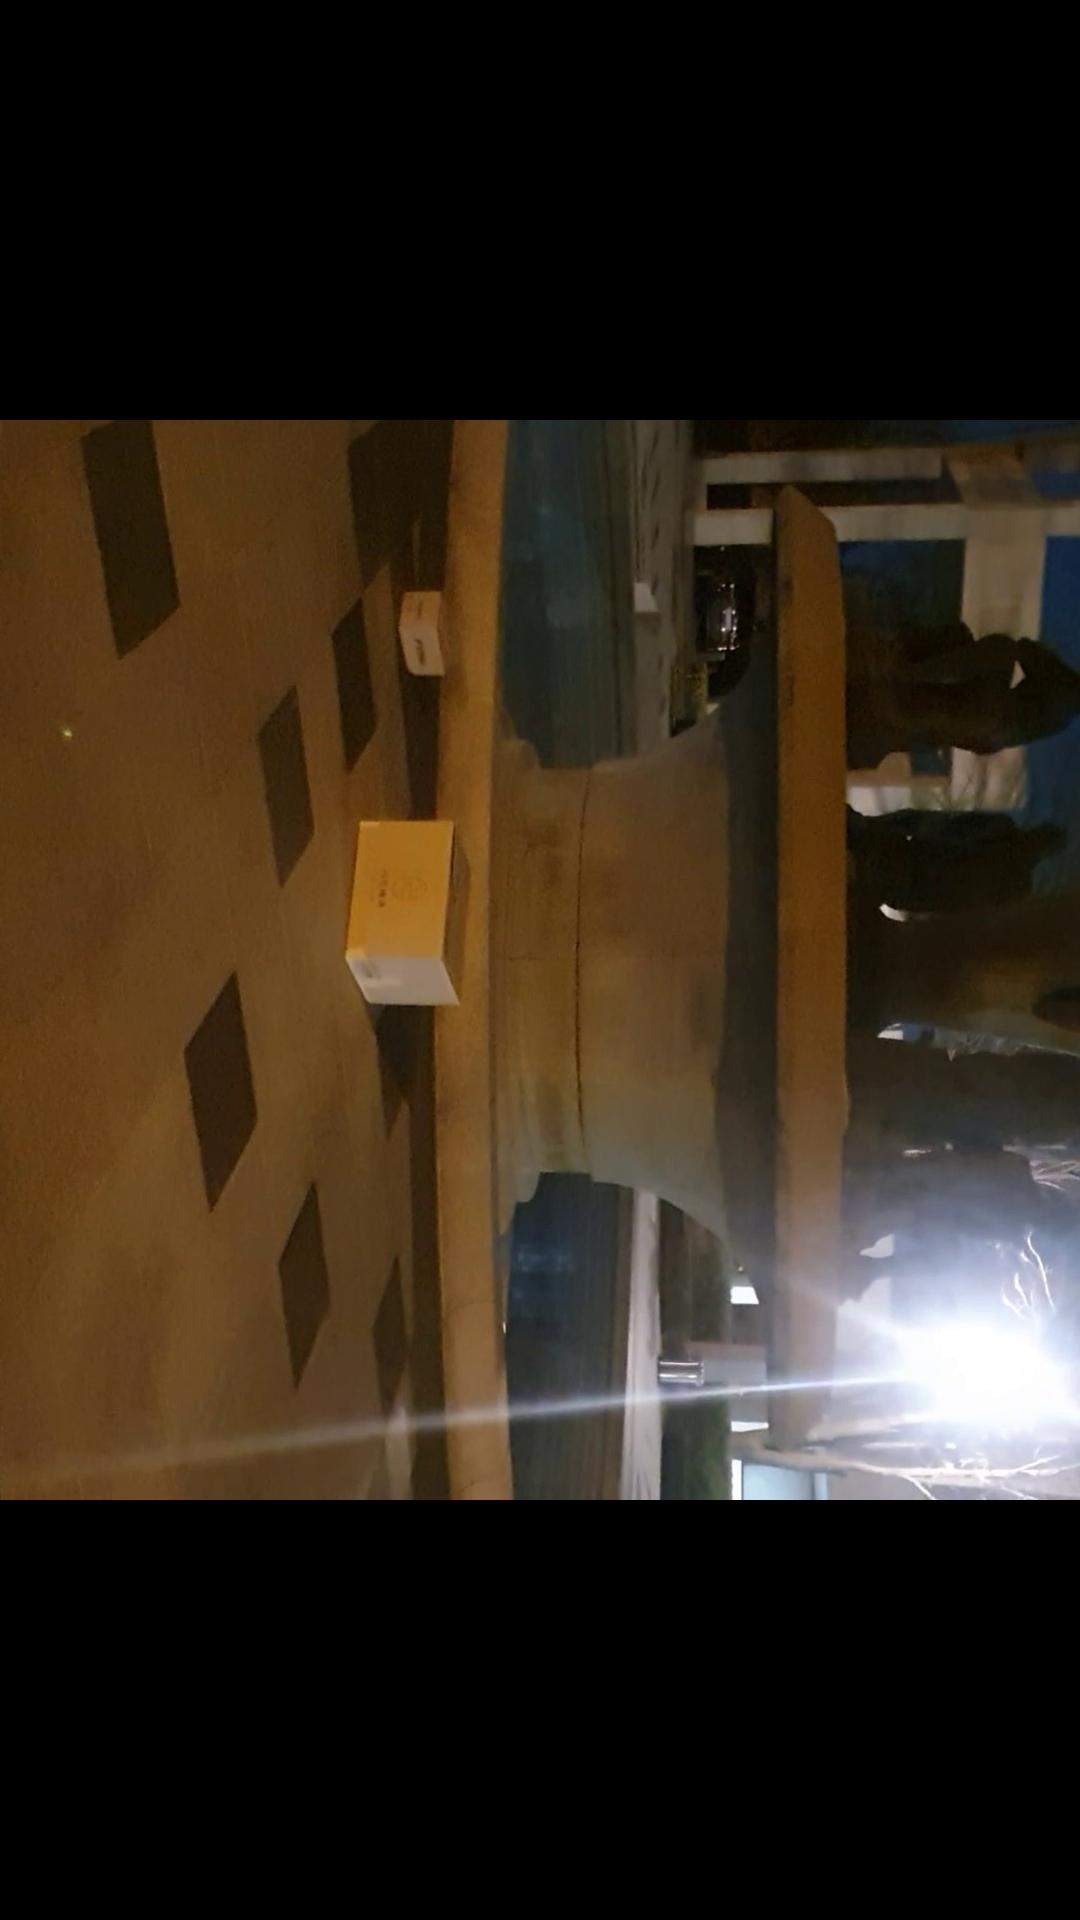Box: (332, 791, 477, 1029), (393, 574, 465, 675)
